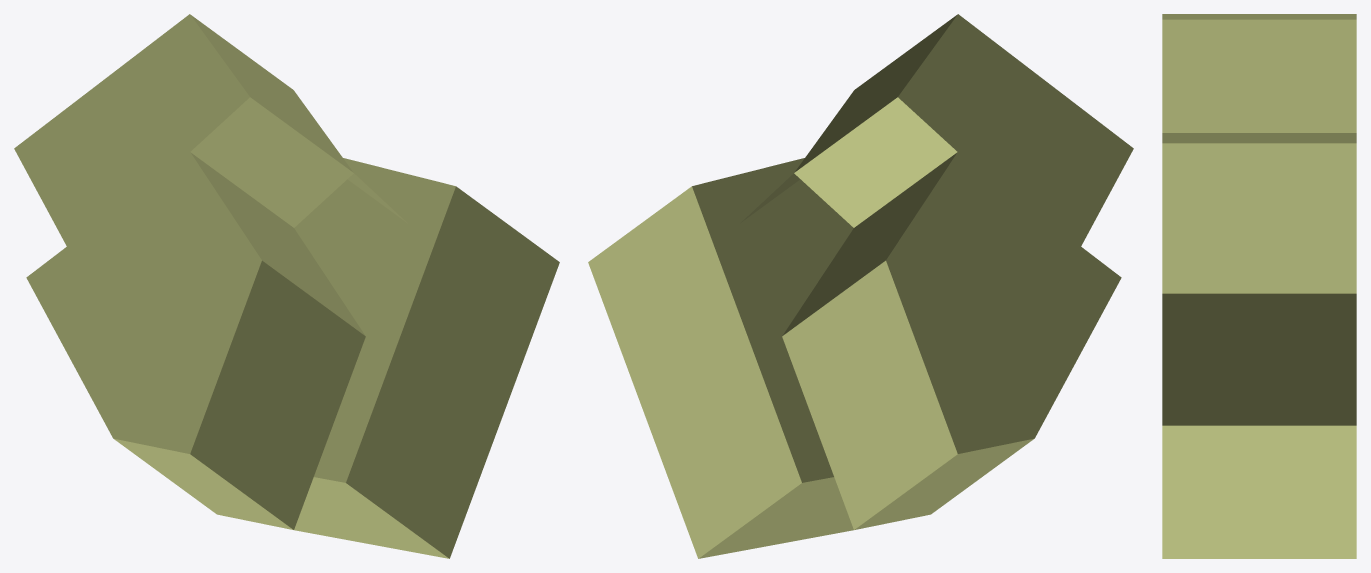
The picture shows the model from 3 angles, left to right: view 1: azimuth 30°, elevation 25°; view 2: azimuth 150°, elevation 25°; view 3: azimuth 270°, elevation 25°; orthographic projection. The views are drawn at different scales.
Parts seen in each view (by area): view 1: 0_1_0_0_2_1_0_3_3_1; view 2: 0_1_0_0_2_1_0_3_3_1; view 3: 0_1_0_0_2_1_0_3_3_1.
Boxes of the visible parts, bbox=[...] form: 0_1_0_0_2_1_0_3_3_1: bbox=[14, 14, 559, 558]; 0_1_0_0_2_1_0_3_3_1: bbox=[588, 14, 1133, 558]; 0_1_0_0_2_1_0_3_3_1: bbox=[1162, 14, 1356, 558].
Bounding box in the file's own units: 14.74 × 16.16 × 6.
